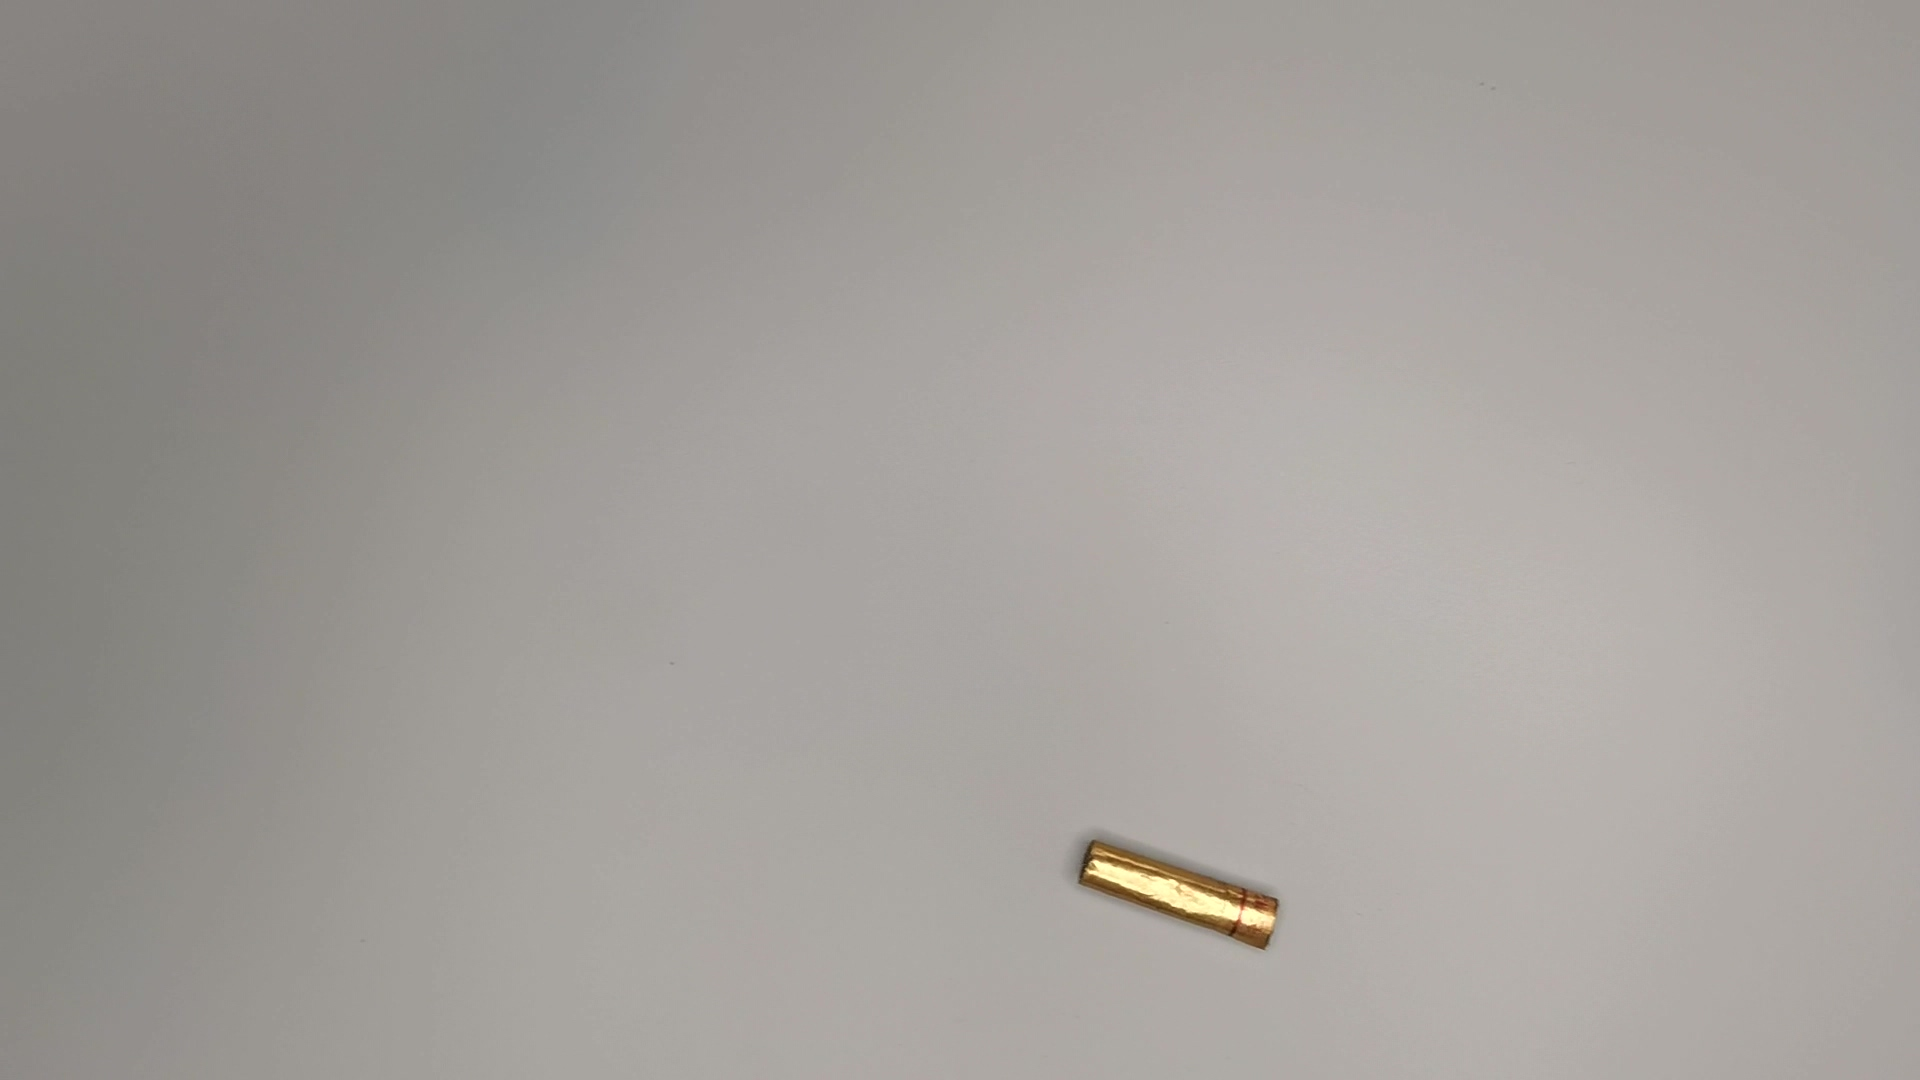cigarette: (1064, 829, 1280, 960)
